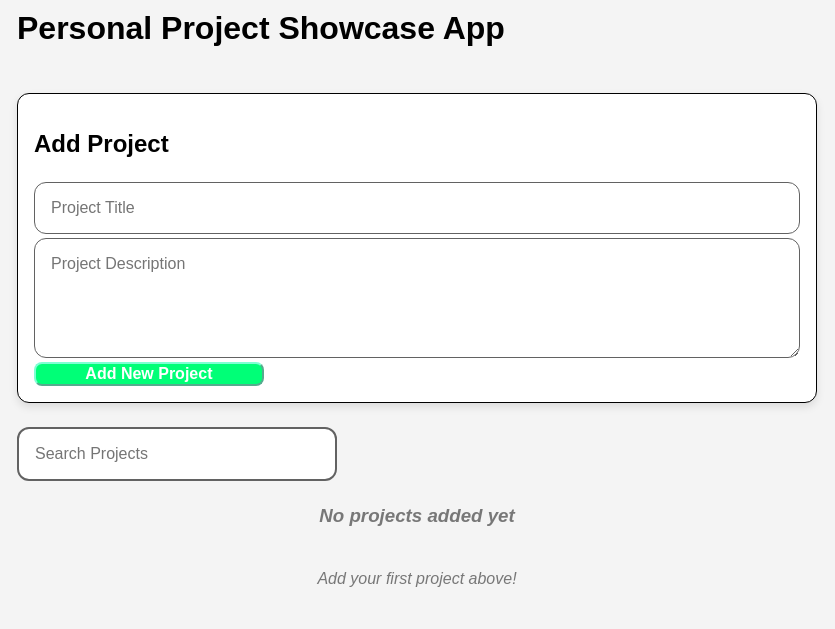
Test case: prevents adding a blank project
Click the button "Add New Project". click: (149, 374)
box: top-left (34, 362), bottom-right (264, 386)
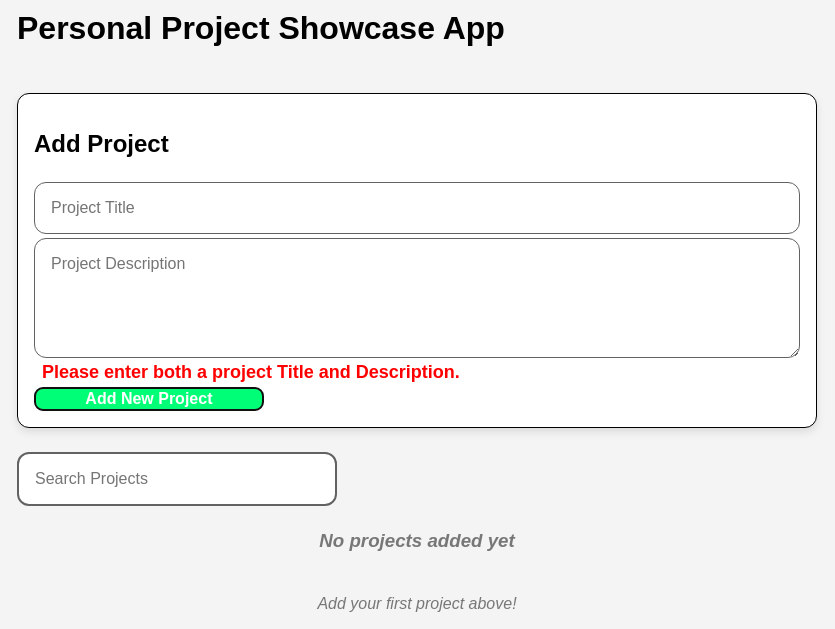
Expected: the text "Please enter both a project Title and Description." is shown, top-left (42, 362), bottom-right (460, 382)
